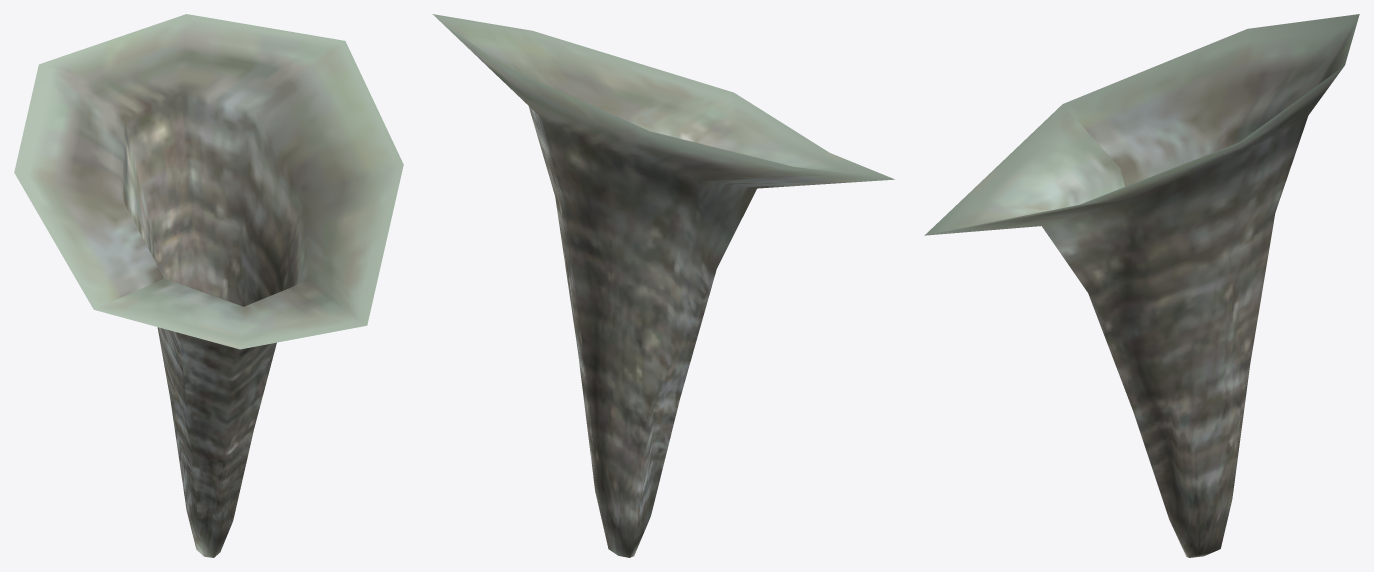
The model's file is TROLLHOLE02_PS-SECRETSTALAG04.fbx.
The picture shows the model from 3 angles, left to right: view 1: azimuth 30°, elevation 25°; view 2: azimuth 150°, elevation 25°; view 3: azimuth 270°, elevation 25°; orthographic projection. The views are drawn at different scales.
Visible parts, largest first — view 1: TROLLHOLE02_PS-SECRETSTALAG04; view 2: TROLLHOLE02_PS-SECRETSTALAG04; view 3: TROLLHOLE02_PS-SECRETSTALAG04.
Part boxes in pixels (x1,y1,x2,y2): TROLLHOLE02_PS-SECRETSTALAG04: (14, 14, 403, 557); TROLLHOLE02_PS-SECRETSTALAG04: (432, 14, 894, 557); TROLLHOLE02_PS-SECRETSTALAG04: (924, 14, 1359, 557).
Size of the model in its own units: 24371 by 33474 by 25562.
1 material, 1 textured.
